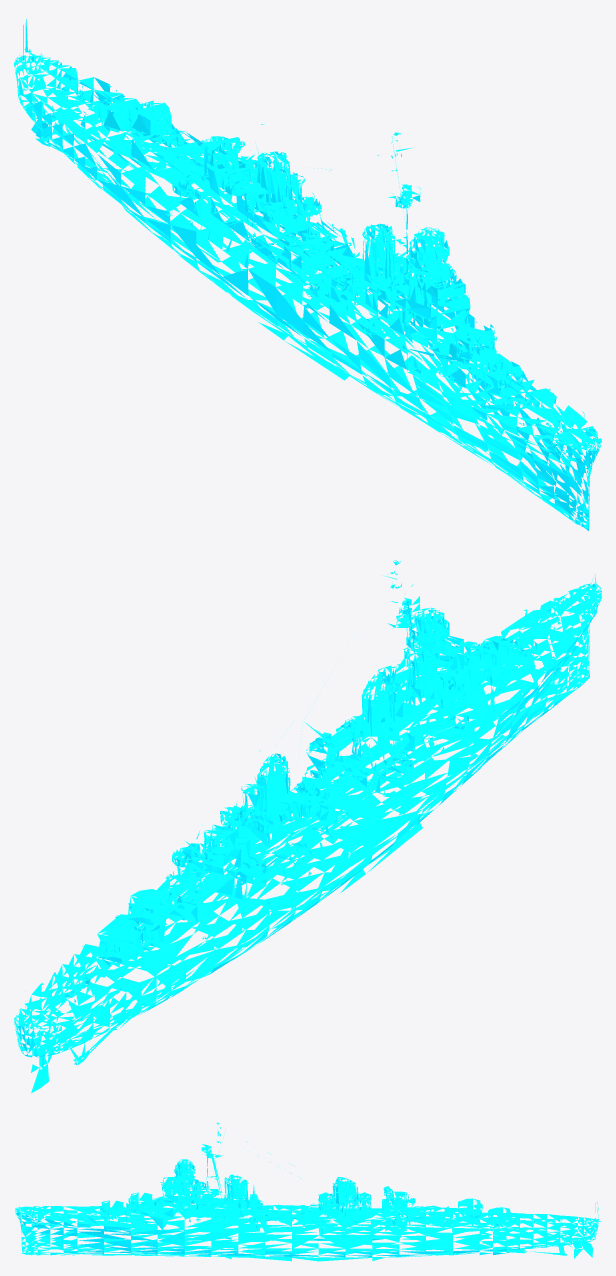
File: Attilio_Regolo.glb
3 renders of one model, top to bottom at view 1: azimuth 30°, elevation 25°; view 2: azimuth 150°, elevation 25°; view 3: azimuth 270°, elevation 25°, orthographic. The views are drawn at different scales.
Size of the model in its own units: 1.11 by 2.43 by 9.51.
